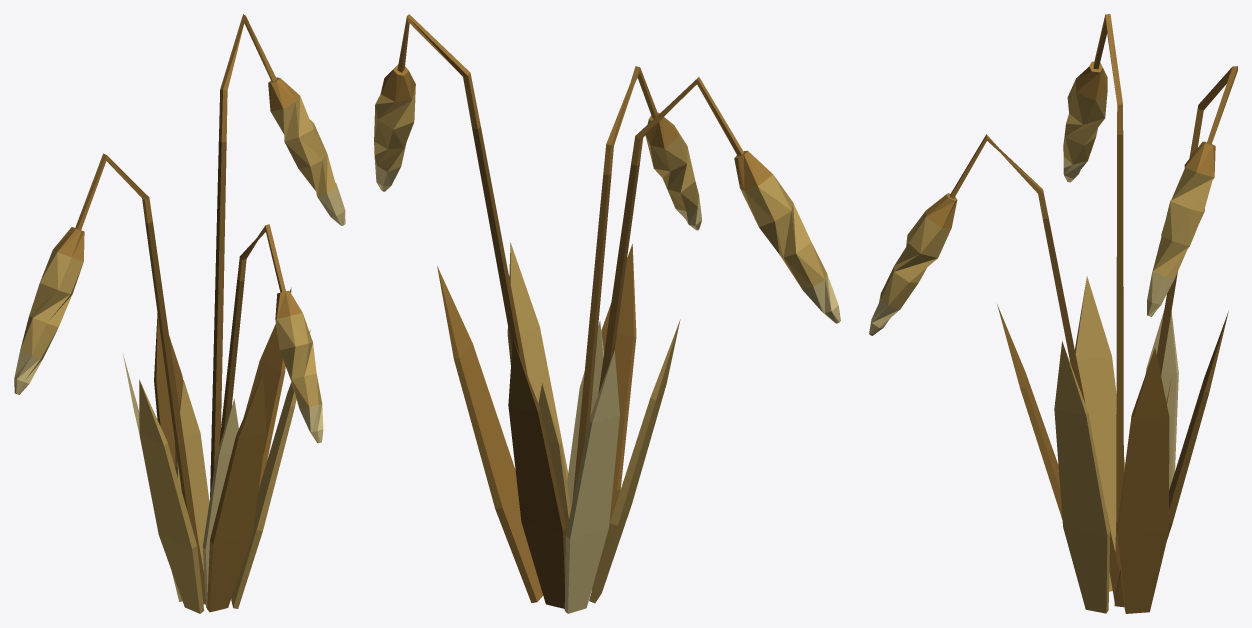
The model's file is golden_grass.gltf.
3 renders of one model, left to right at view 1: azimuth 30°, elevation 25°; view 2: azimuth 150°, elevation 25°; view 3: azimuth 270°, elevation 25°, orthographic. The views are drawn at different scales.
Visible parts, largest first — view 1: golden_grass; view 2: golden_grass; view 3: golden_grass.
Part boxes in pixels (x1=…): golden_grass: x1=14, y1=14, x2=345, y2=613; golden_grass: x1=374, y1=14, x2=840, y2=613; golden_grass: x1=869, y1=14, x2=1237, y2=613.
Bounding box in the file's own units: 0.6389 × 0.877 × 0.5019.
